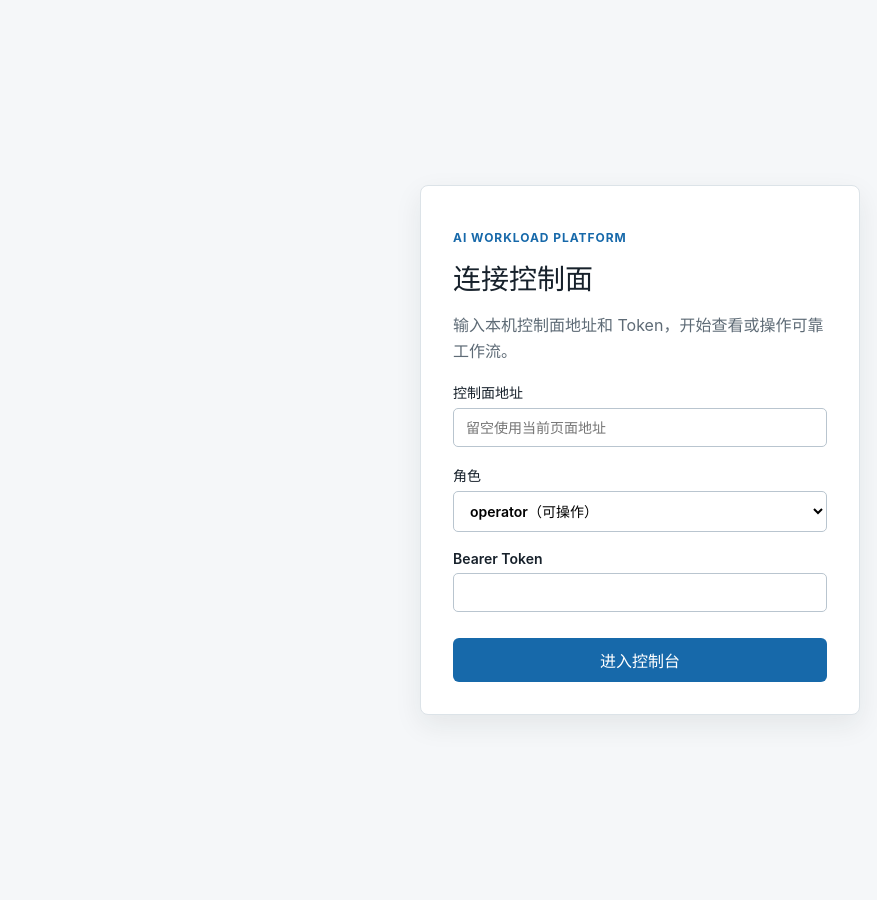
App authentication transition › renders the console after signing in from the auth gate
This screenshot has width=877, height=900.
Type "local-token" into the password field labelled "Bearer Token" at point(640, 593), box [453,573,827,612]
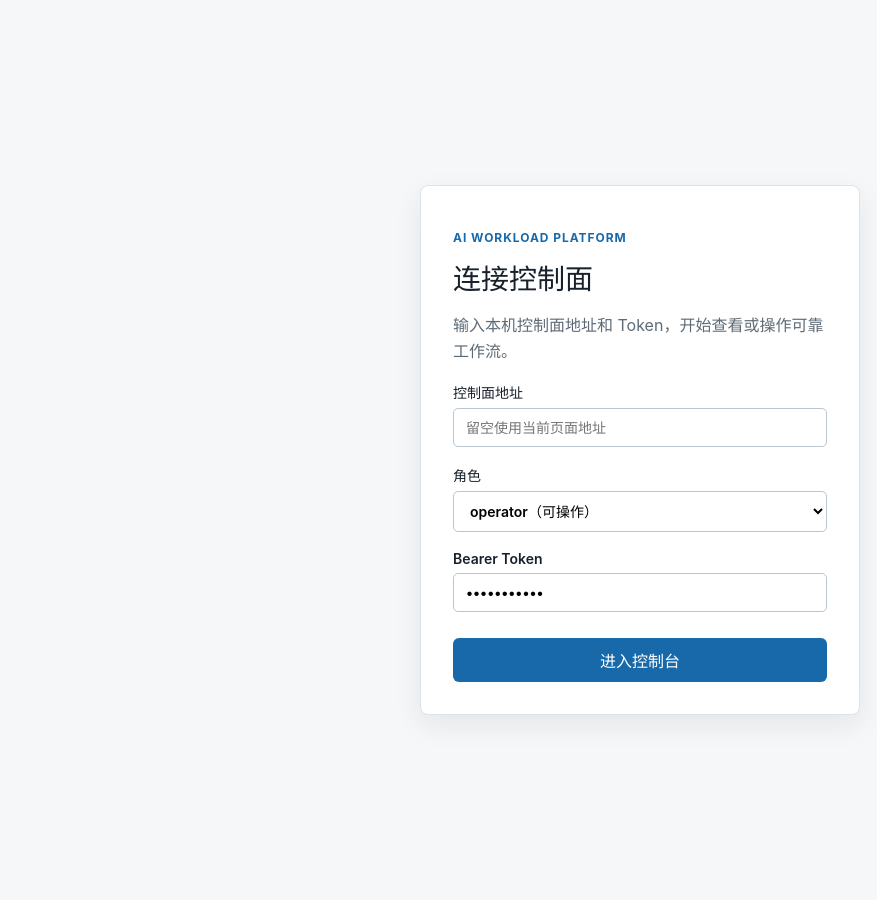
Click the button "进入控制台" at point(640, 660), box [453,638,827,682]
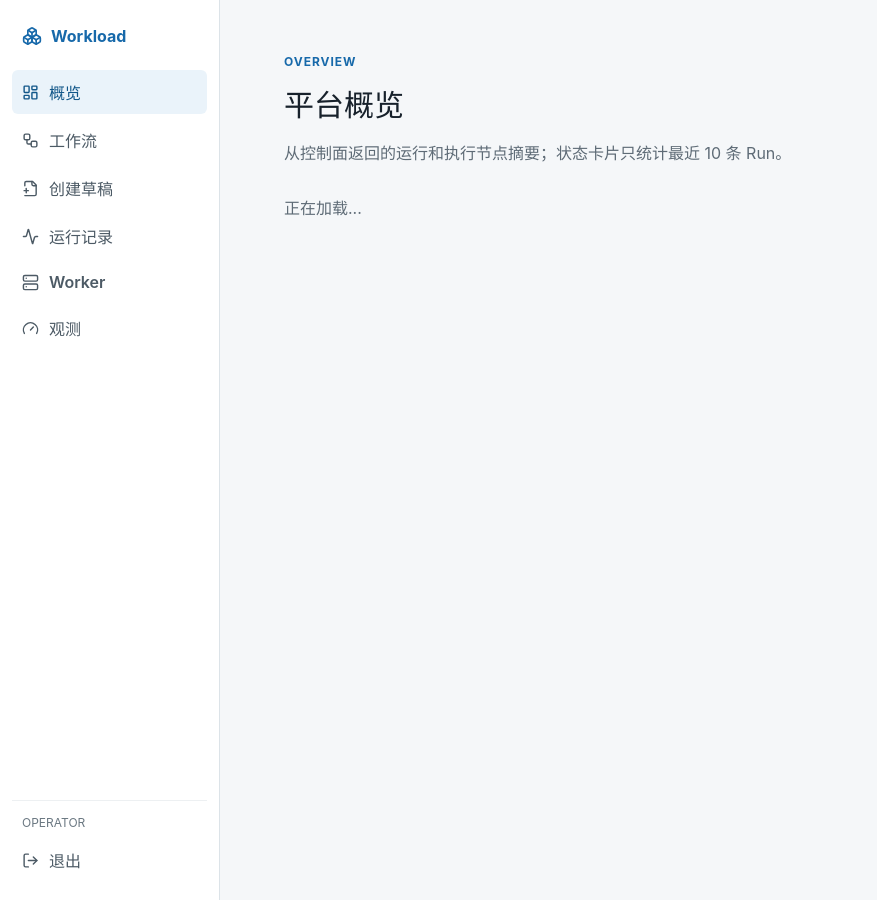
Expected: the navigation bar named "主导航" is shown, [12,70,207,350]
Expected: the heading "平台概览" is shown, [284,87,404,123]
